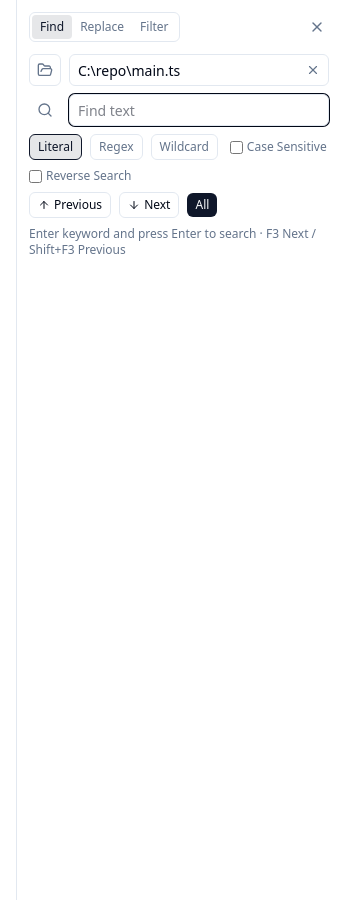
Test case: SearchReplacePanel › shows find navigation error when cursor-step command fails
In the field with placeholder "Find text": (199, 110) [69, 94, 329, 126], type "todo"
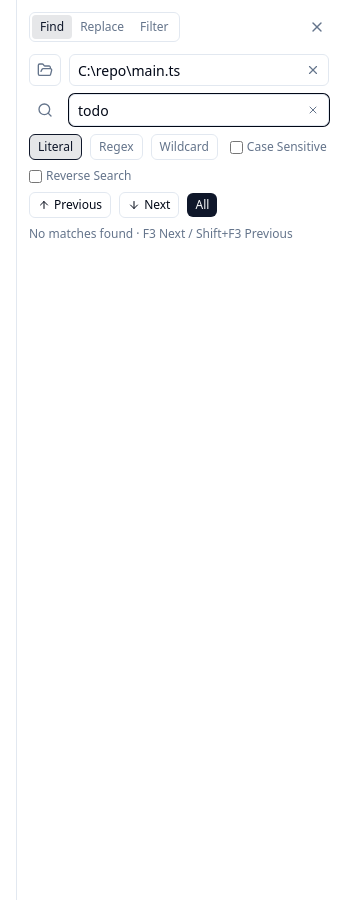
Click the button titled "Next match": (149, 205) [119, 192, 179, 218]
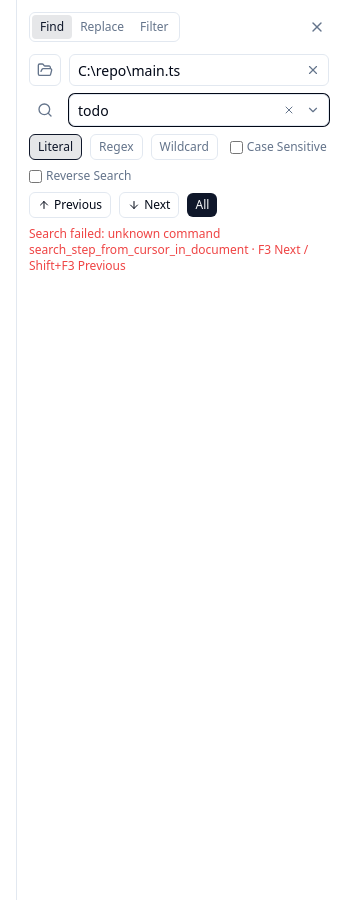
Expected: the text "Search failed: unknown command search_step_from_cursor_in_document" is shown, [29, 225, 248, 258]
